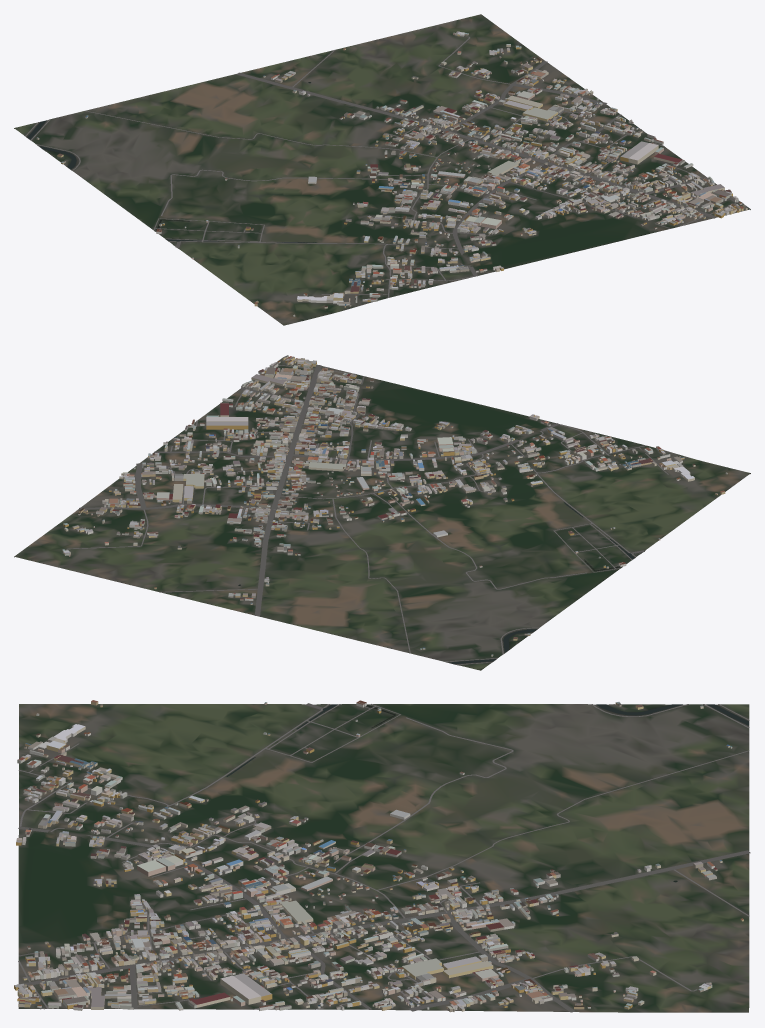
3 renders of one model, top to bottom at view 1: azimuth 30°, elevation 25°; view 2: azimuth 150°, elevation 25°; view 3: azimuth 270°, elevation 25°, orthographic. The views are drawn at different scales.
Parts seen in each view (by area): view 1: ground, buildings, roads; view 2: ground, buildings, roads; view 3: ground, buildings, roads, water.
Boxes of the visible parts, bbox=[...] form: ground: bbox=[14, 14, 750, 325]; buildings: bbox=[36, 31, 747, 316]; roads: bbox=[25, 36, 743, 297]; ground: bbox=[14, 356, 750, 670]; buildings: bbox=[62, 355, 727, 656]; roads: bbox=[66, 362, 668, 664]; ground: bbox=[18, 704, 749, 1012]; buildings: bbox=[14, 700, 743, 1012]; roads: bbox=[17, 703, 750, 1012]; water: bbox=[226, 704, 748, 882].
Size of the model in its own units: 1412 by 24.66 by 1413.
